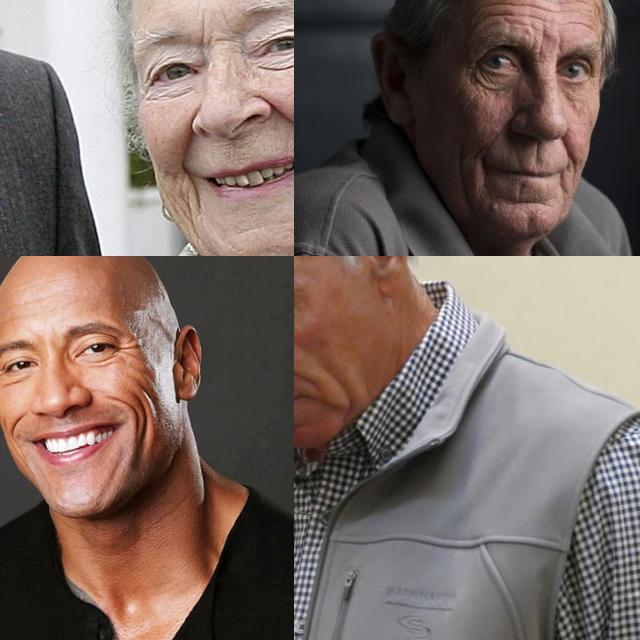chin: (512, 181, 526, 203)
crows_feet: (456, 61, 484, 91), (118, 337, 142, 359), (0, 366, 6, 380)
forehead: (0, 291, 84, 320), (481, 0, 535, 24), (566, 0, 597, 33)
frown_line: (196, 21, 228, 51), (554, 29, 570, 52), (537, 32, 549, 59)
gummy_smile: (120, 388, 158, 450), (484, 117, 511, 159), (273, 100, 294, 139), (559, 132, 579, 170), (174, 128, 196, 162), (8, 414, 24, 454), (294, 355, 313, 383)
masseter: (450, 150, 476, 204), (330, 369, 362, 403)
sad_smile: (180, 172, 210, 214), (552, 172, 570, 200)
smoker_lines: (529, 140, 545, 168)
